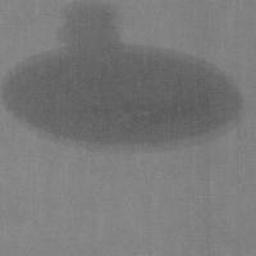Oil spot: (0, 0, 248, 156)
